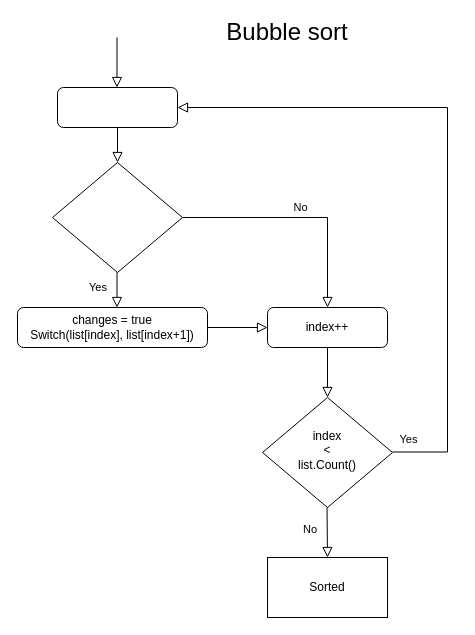
This 475x635 diagram has some shape labels left out. Each missing label, with the centre of its shape:
"changes = false index = 0" belongs at pixel 117 107.
"list[index] > list[index+1]" belongs at pixel 117 217.
